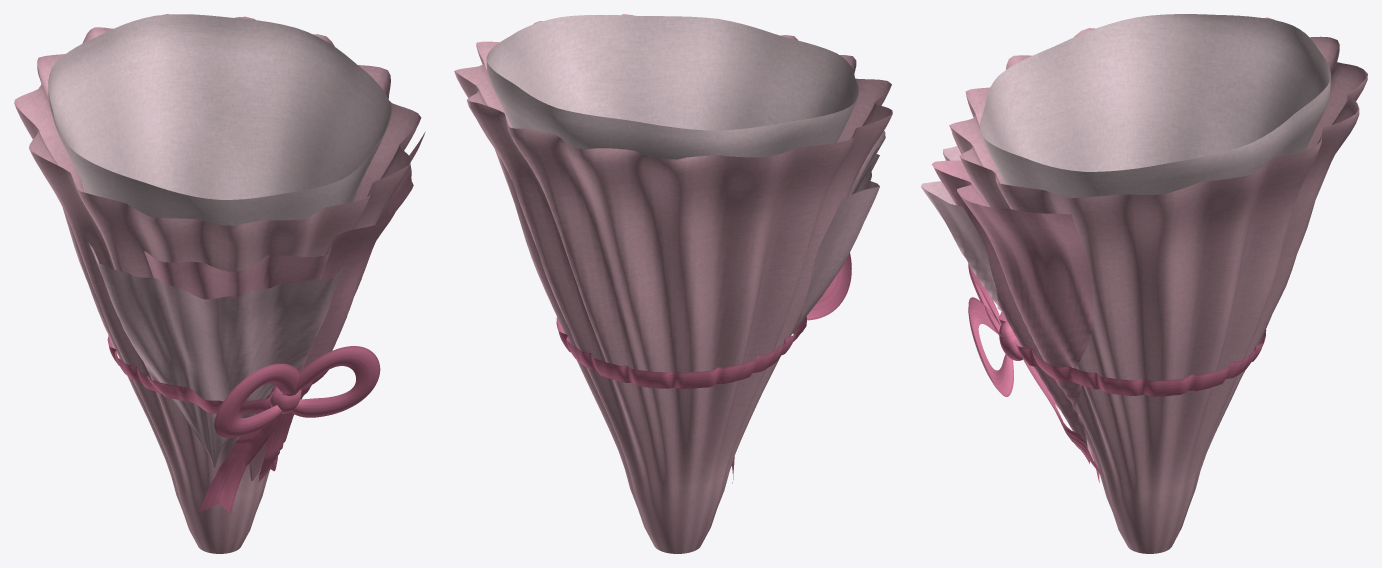
Rendered from wrapping_pink_empty.glb.
3 renders of one model, left to right at view 1: azimuth 30°, elevation 25°; view 2: azimuth 150°, elevation 25°; view 3: azimuth 270°, elevation 25°, orthographic. The views are drawn at different scales.
Visible parts, largest first — view 1: Paper_Liner_Inner, Paper_Outer_Wrap, Paper_Front_Fold, Paper_Front_Overlap, Bow_Loop_Right, Bow_Loop_Left, Bow_Tail_Left, Ribbon_Band, Bow_Tail_Right, Bow_Knot; view 2: Paper_Outer_Wrap, Paper_Liner_Inner, Paper_Front_Fold, Ribbon_Band, Bow_Loop_Left; view 3: Paper_Outer_Wrap, Paper_Liner_Inner, Paper_Front_Overlap, Ribbon_Band, Paper_Front_Fold, Bow_Loop_Right, Bow_Tail_Right, Bow_Knot, Bow_Loop_Left.
Part boxes in pixels (x1,y1,x2,y2): Paper_Liner_Inner: [48, 14, 391, 225]; Paper_Outer_Wrap: [14, 14, 421, 553]; Paper_Front_Fold: [88, 242, 349, 467]; Paper_Front_Overlap: [144, 131, 425, 480]; Bow_Loop_Right: [283, 346, 380, 417]; Bow_Loop_Left: [214, 363, 299, 438]; Bow_Tail_Left: [197, 406, 277, 513]; Ribbon_Band: [107, 335, 328, 414]; Bow_Tail_Right: [258, 412, 293, 481]; Bow_Knot: [269, 385, 301, 413]; Paper_Outer_Wrap: [454, 14, 892, 553]; Paper_Liner_Inner: [486, 15, 858, 159]; Paper_Front_Fold: [792, 131, 885, 333]; Ribbon_Band: [556, 316, 806, 388]; Bow_Loop_Left: [806, 253, 851, 320]; Paper_Outer_Wrap: [949, 17, 1367, 553]; Paper_Liner_Inner: [980, 14, 1330, 197]; Paper_Front_Overlap: [932, 133, 1093, 459]; Ribbon_Band: [998, 312, 1266, 396]; Paper_Front_Fold: [921, 146, 1001, 311]; Bow_Loop_Right: [968, 297, 1013, 396]; Bow_Tail_Right: [1022, 357, 1104, 476]; Bow_Knot: [999, 321, 1023, 360]; Bow_Loop_Left: [968, 264, 1001, 336].
Bounding box in the file's own units: 0.5057 × 0.632 × 0.5377.
Materials: 5 (5 with a texture image).
